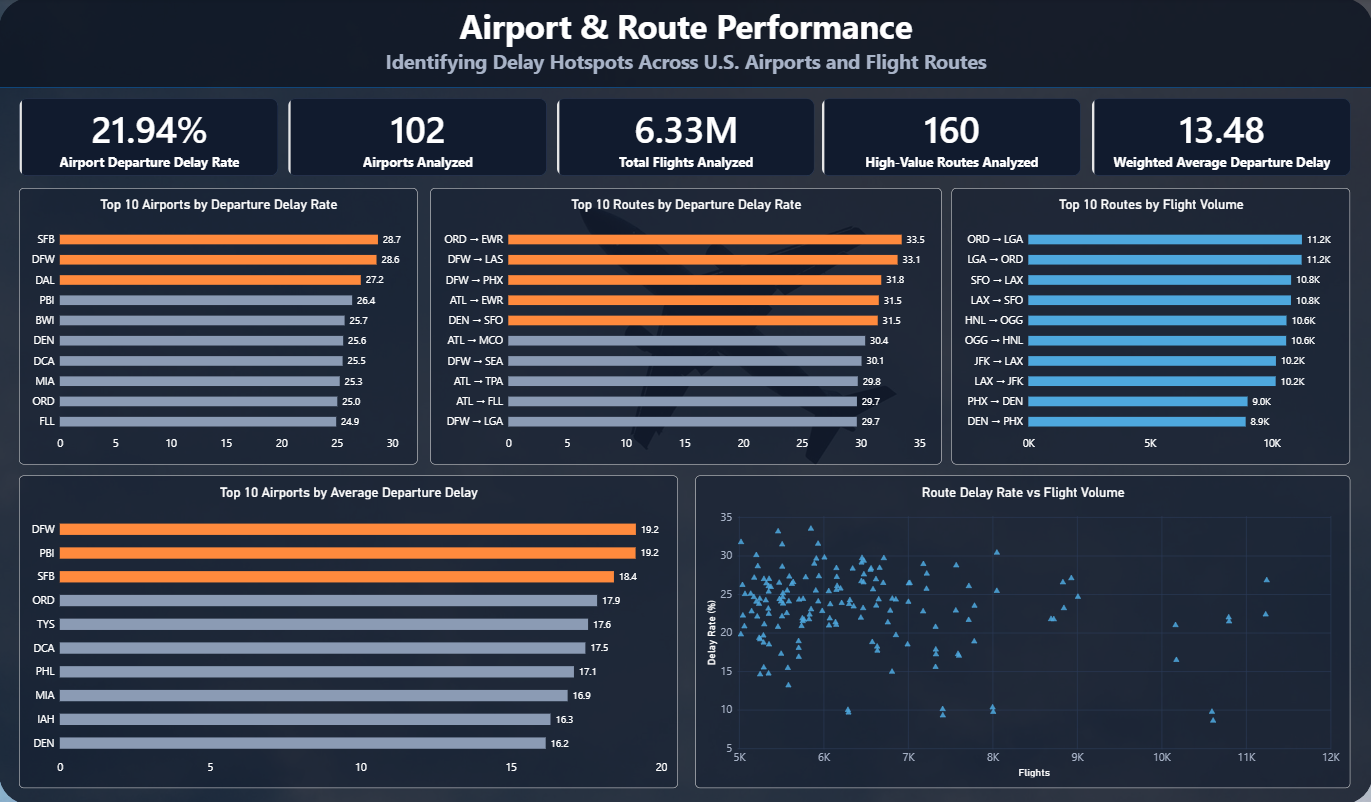

The page's visual inventory and layout, read from the dashboard file:
{"tool":"powerbi","page":{"name":"Airport and Route Performance","canvas":[2250,1320],"ordinal":3},"visuals":[{"type":"shape","box":[0,0,2250,1320.8],"z":0},{"type":"shape","box":[0,0,2249.8,147.4],"z":1000},{"type":"textbox","box":[0,10.4,2250,137.5],"z":2000},{"type":"cardVisual","fields":{"Data":["DelayBucketSort.Airport Departure Delay Rate"]},"box":[32.8,163.8,425.8,129],"z":3000},{"type":"cardVisual","fields":{"Data":["DelayBucketSort.Airports Analyzed"]},"box":[472.9,163.8,425.8,129],"z":4000},{"type":"cardVisual","fields":{"Data":["Sum(public vw_airport_delay_summary.operated_flights)"]},"box":[913,163.8,423.8,129],"z":5000},{"type":"cardVisual","fields":{"Data":["DelayBucketSort.Routes Analyzed"]},"box":[1347,163.8,425.8,129],"z":6000},{"type":"cardVisual","fields":{"Data":["DelayBucketSort.Weighted Average Departure Delay"]},"box":[1789.2,163.8,425.8,129],"z":7000},{"type":"clusteredBarChart","title":"Top 10 Routes by Departure Delay Rate","fields":{"Category":["public vw_route_delay_summary.route"],"Y":["Avg(public vw_route_delay_summary.departure_delay_rate)"]},"box":[706.3,311.2,837.3,452.4],"z":8000},{"type":"clusteredBarChart","title":"Top 10 Airports by Average Departure Delay","fields":{"Category":["public vw_airport_delay_summary.airport"],"Y":["Avg(public vw_airport_delay_summary.avg_departure_delay)"]},"box":[32.8,782,1078.9,511.8],"z":9000},{"type":"clusteredBarChart","title":"Top 10 Airports by Departure Delay Rate","fields":{"Category":["public vw_airport_delay_summary.airport"],"Y":["Avg(public vw_airport_delay_summary.departure_delay_rate)"]},"box":[32.8,311.2,653,452.4],"z":10000},{"type":"clusteredBarChart","title":"Top 10 Routes by Flight Volume","fields":{"Category":["public vw_route_delay_summary.route"],"Y":["Sum(public vw_route_delay_summary.operated_flights)"]},"box":[1559.9,311.2,653,452.4],"z":11000},{"type":"scatterChart","title":"Route Delay Rate vs Flight Volume","fields":{"X":["public vw_route_delay_summary.operated_flights"],"Y":["public vw_route_delay_summary.departure_delay_rate"]},"box":[1140.3,782,1072.7,511.8],"z":12000}]}

Visuals, with their boxes in screenshot pixels (x1, y1, x2, y2), scaled from the page's 2250x1320 canvas onto the 1371x802 screenshot:
shape: (left=0, top=0, right=1370, bottom=801)
shape: (left=0, top=0, right=1370, bottom=90)
textbox: (left=0, top=6, right=1370, bottom=90)
cardVisual - DelayBucketSort.Airport Departure Delay Rate: (left=20, top=100, right=279, bottom=178)
cardVisual - DelayBucketSort.Airports Analyzed: (left=288, top=100, right=548, bottom=178)
cardVisual - Sum(public vw_airport_delay_summary.operated_flights): (left=556, top=100, right=815, bottom=178)
cardVisual - DelayBucketSort.Routes Analyzed: (left=821, top=100, right=1080, bottom=178)
cardVisual - DelayBucketSort.Weighted Average Departure Delay: (left=1090, top=100, right=1350, bottom=178)
"Top 10 Routes by Departure Delay Rate" clusteredBarChart: (left=430, top=189, right=941, bottom=464)
"Top 10 Airports by Average Departure Delay" clusteredBarChart: (left=20, top=475, right=677, bottom=786)
"Top 10 Airports by Departure Delay Rate" clusteredBarChart: (left=20, top=189, right=418, bottom=464)
"Top 10 Routes by Flight Volume" clusteredBarChart: (left=950, top=189, right=1348, bottom=464)
"Route Delay Rate vs Flight Volume" scatterChart: (left=695, top=475, right=1348, bottom=786)
